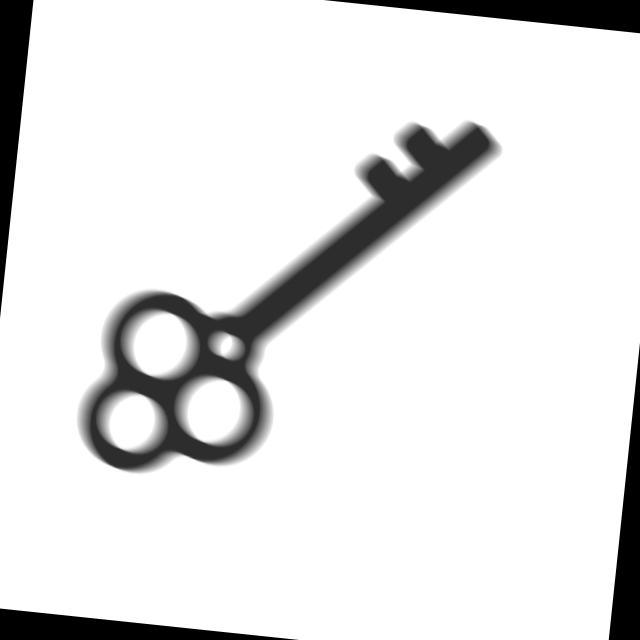key: (65, 73, 515, 514)
